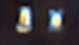MISSING: (11, 2, 37, 40), (43, 2, 69, 40)
